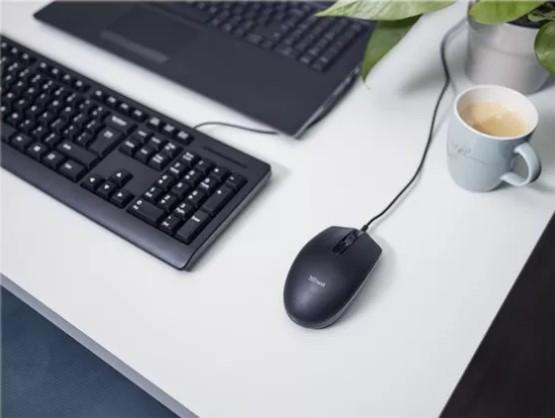computer mouse: (282, 226, 385, 331)
